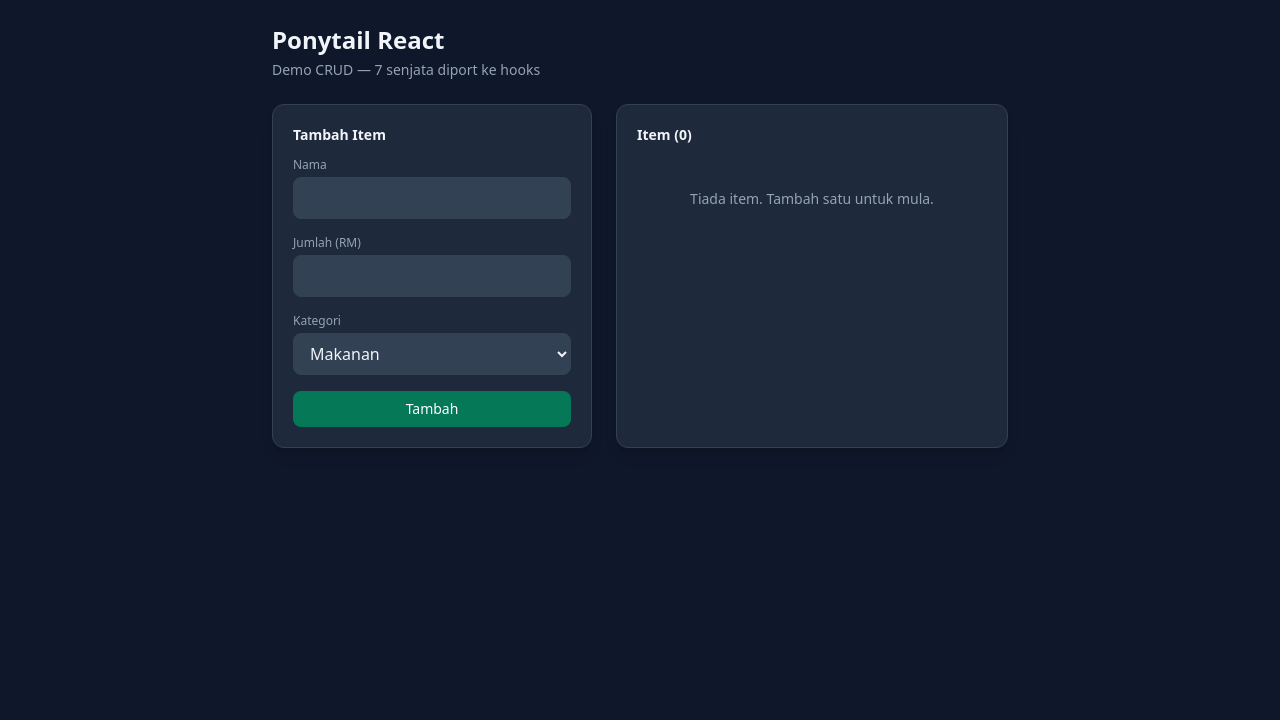
Test: App interaction (React port) › confirms before deleting an item
The width and height of the screenshot is (1280, 720).
Expected: the heading "Ponytail React" is shown, [272, 23, 444, 56]
Type "Grab" into the field named "Nama item" at (432, 198), box [293, 177, 571, 219]
Type "12" into the number field named "Jumlah dalam Ringgit" at (432, 276), box [293, 255, 571, 297]
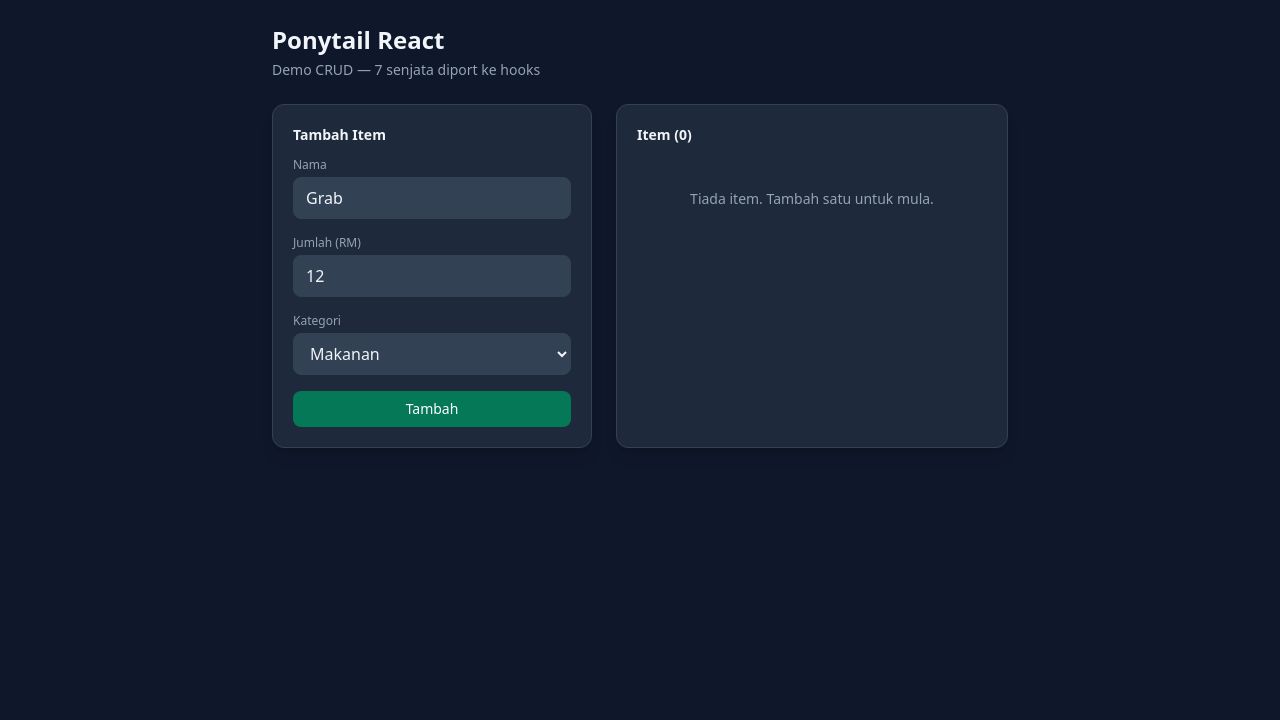
Click the button "Tambah" at (432, 409), box [293, 391, 571, 427]
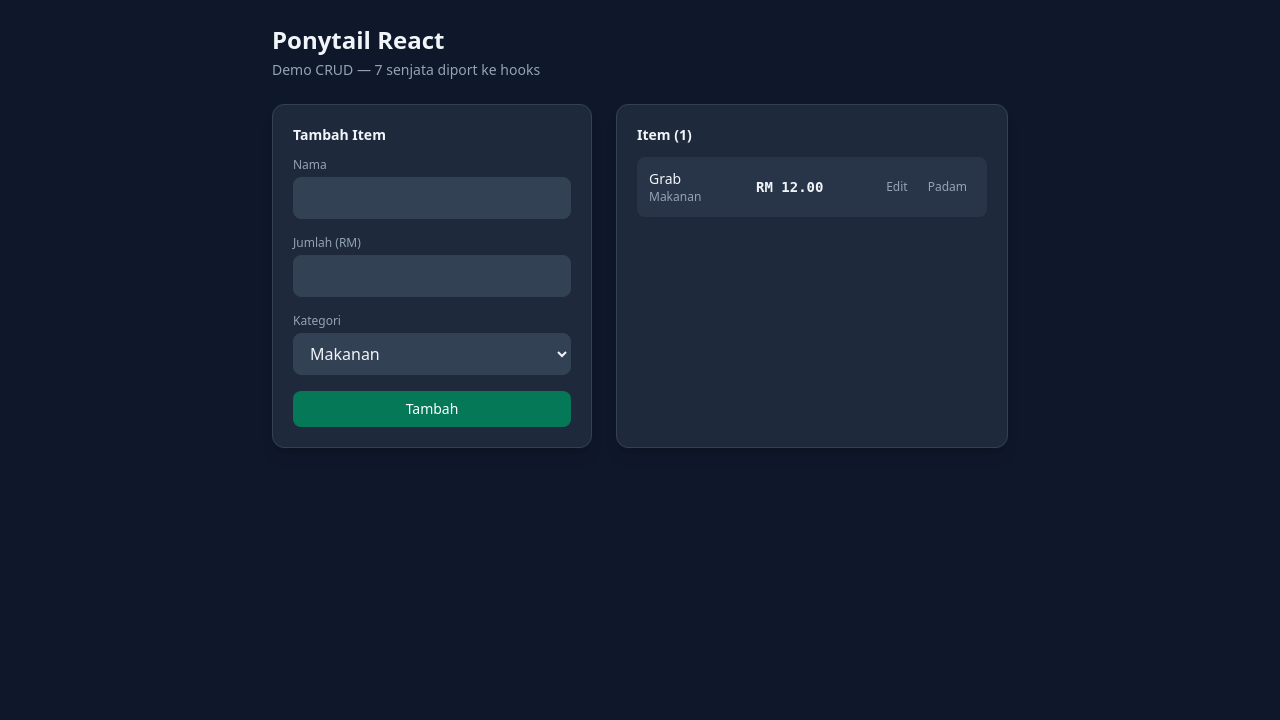
Expected: the text "Grab" is shown, [649, 169, 681, 188]
Click the button with aria-label "Padam Grab" at (947, 187), box [920, 175, 975, 199]
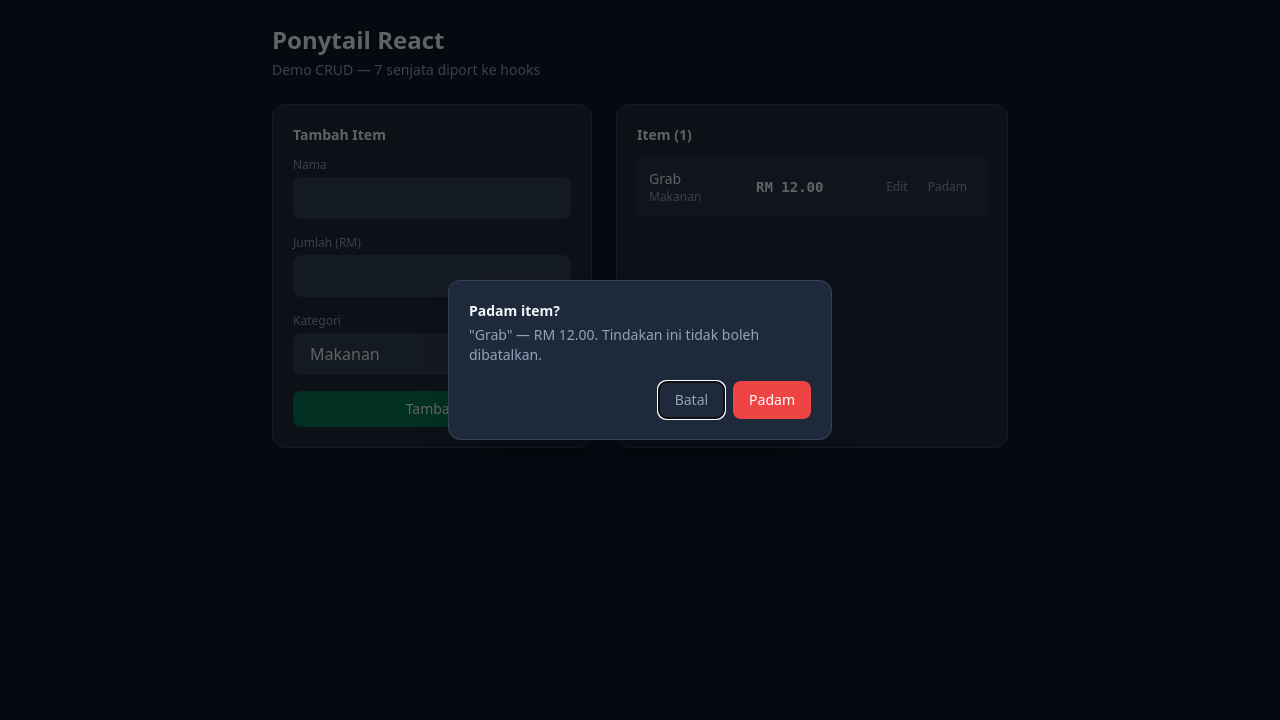
Expected: the text "\"Grab\" — RM 12.00. Tindakan ini tidak boleh dibatalkan." is shown, [469, 325, 759, 364]
Click the button "Batal" at (691, 400), box [658, 381, 725, 419]
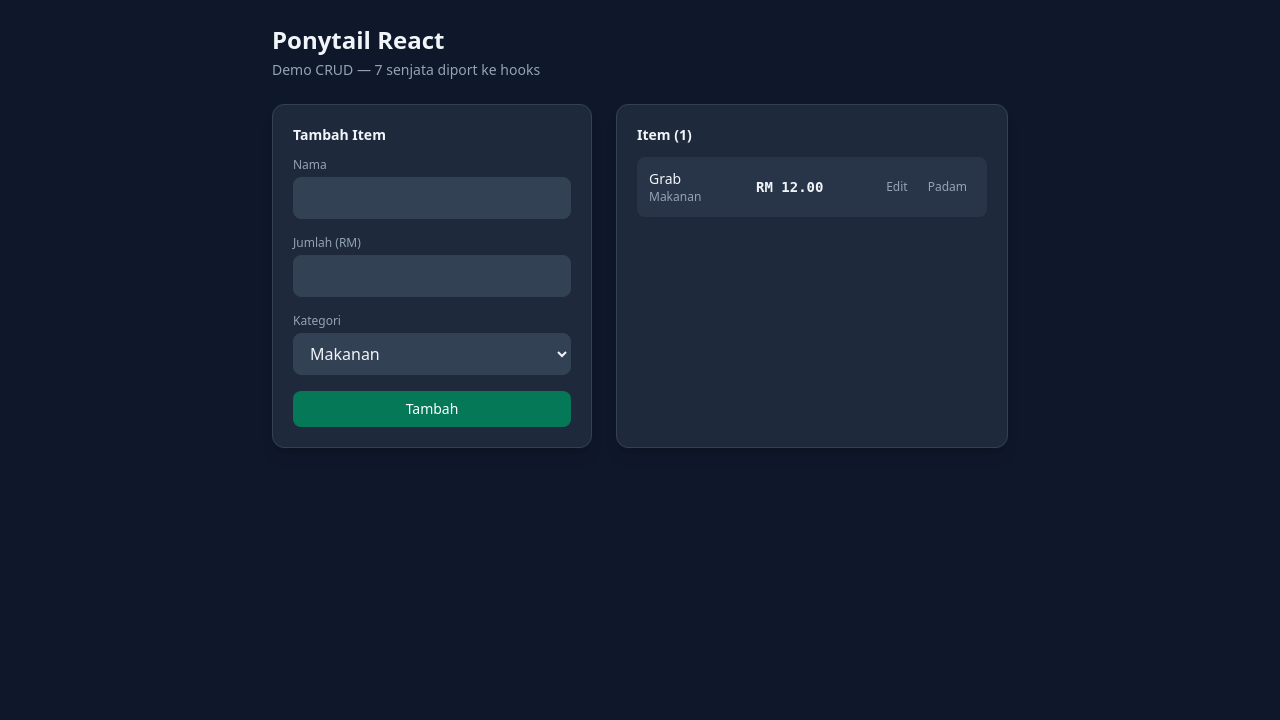
Expected: the text "Grab" is shown, [649, 169, 681, 188]
Expected: the dialog is gone
Click the button with aria-label "Padam Grab" at (947, 187), box [920, 175, 975, 199]
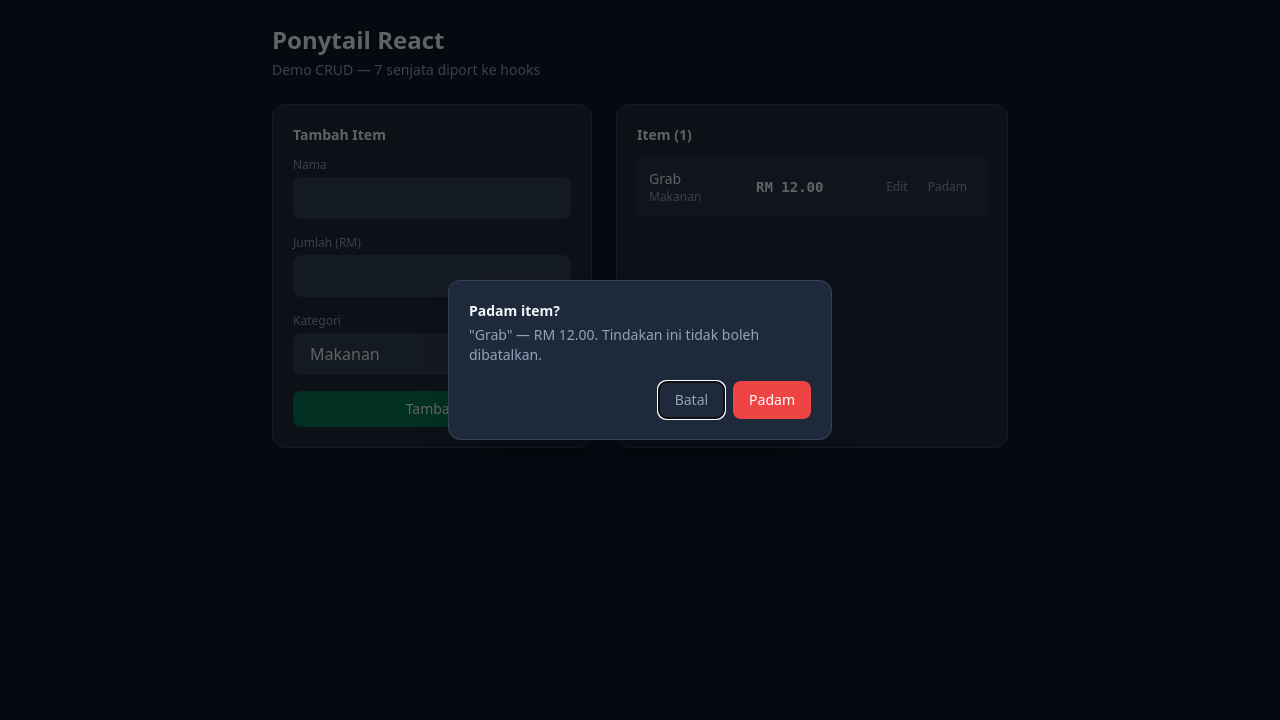
Click the button "Padam" at (772, 400), box [733, 381, 811, 419]
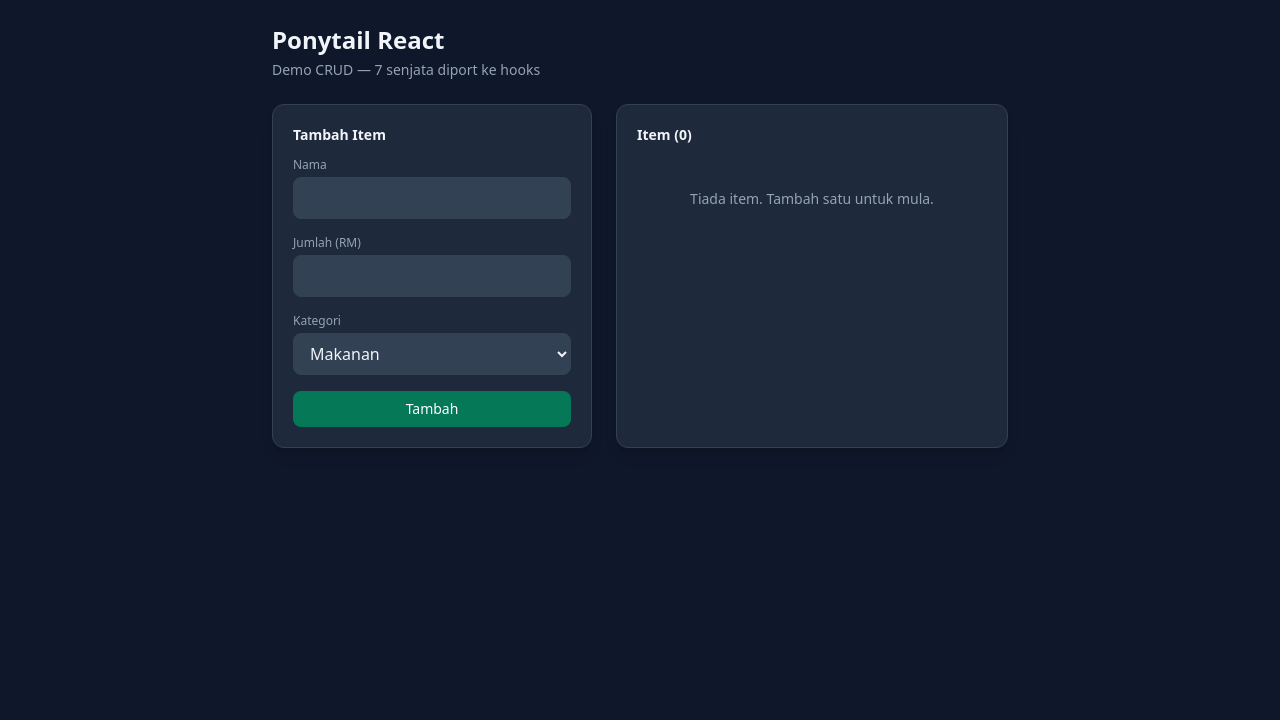
Expected: the text "Grab" is gone
